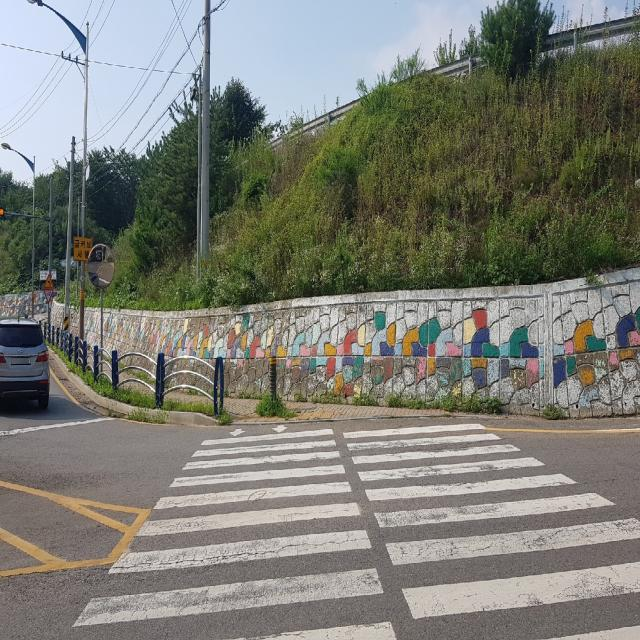횡단보도: (72, 423, 640, 640)
